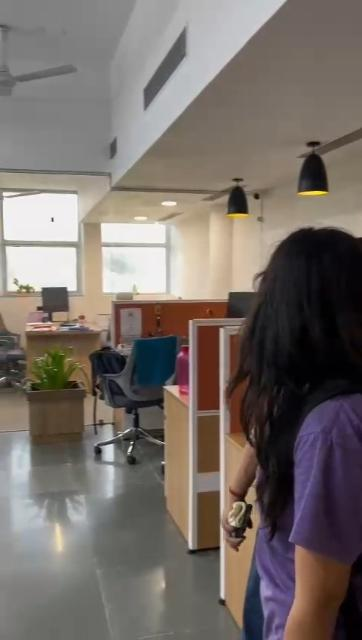moving-obj: (193, 246, 361, 640)
object: (106, 342, 186, 450), (18, 360, 93, 442), (34, 276, 82, 330), (0, 310, 24, 390)
wall: (172, 212, 236, 284), (251, 195, 362, 233), (85, 226, 108, 324)
